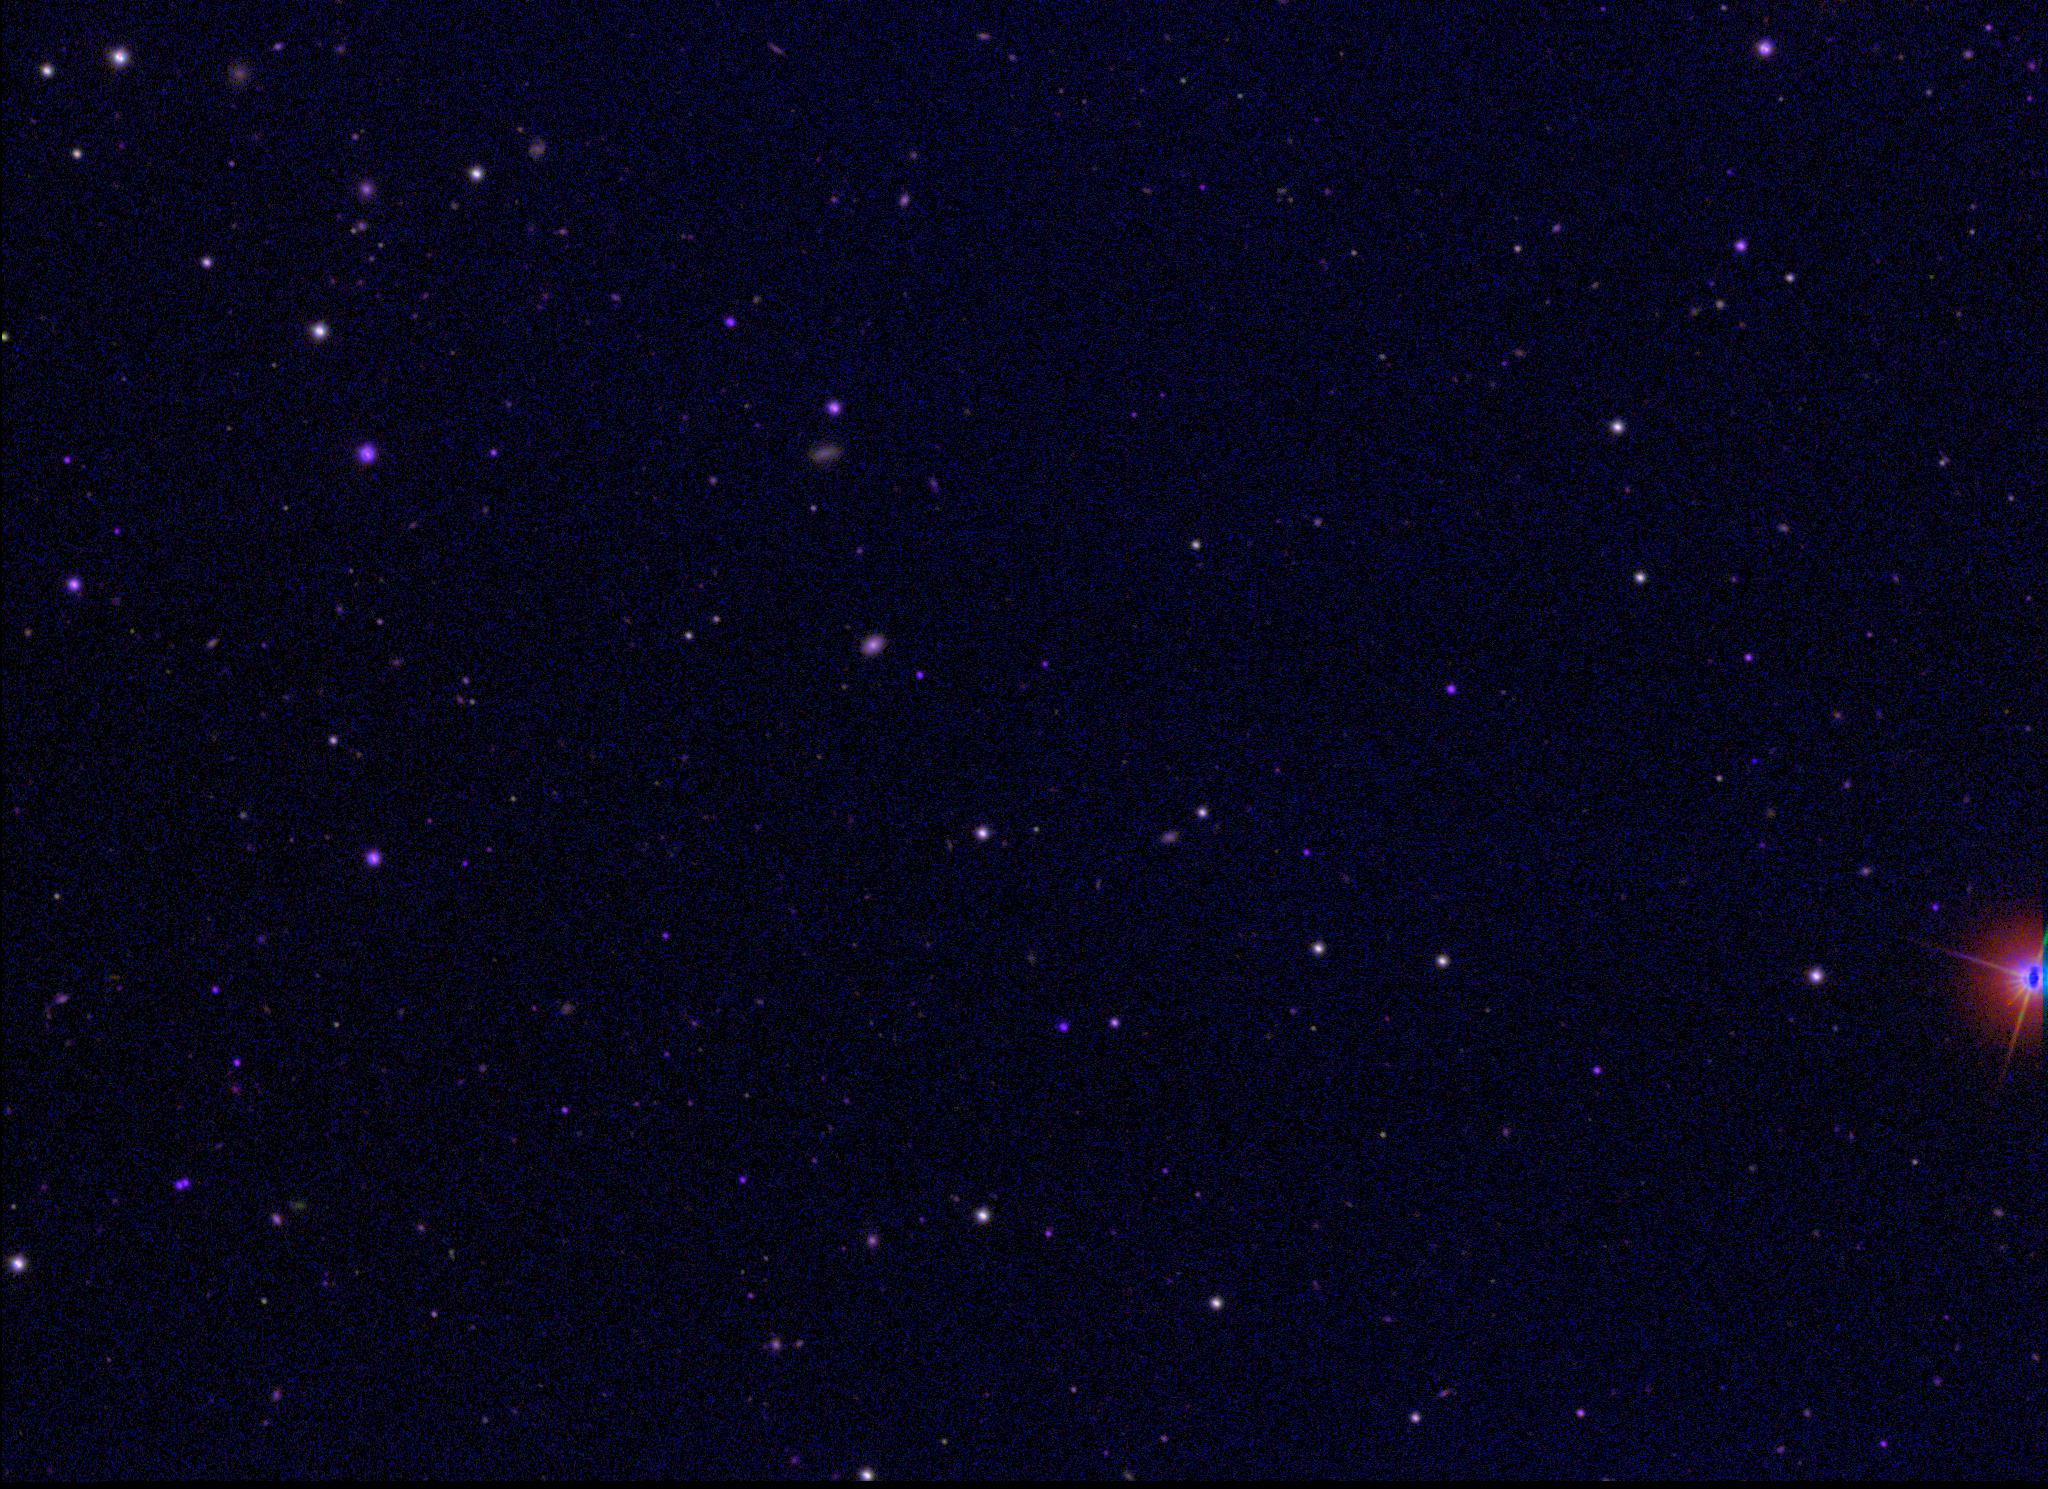L: (1746, 752, 1760, 767)
